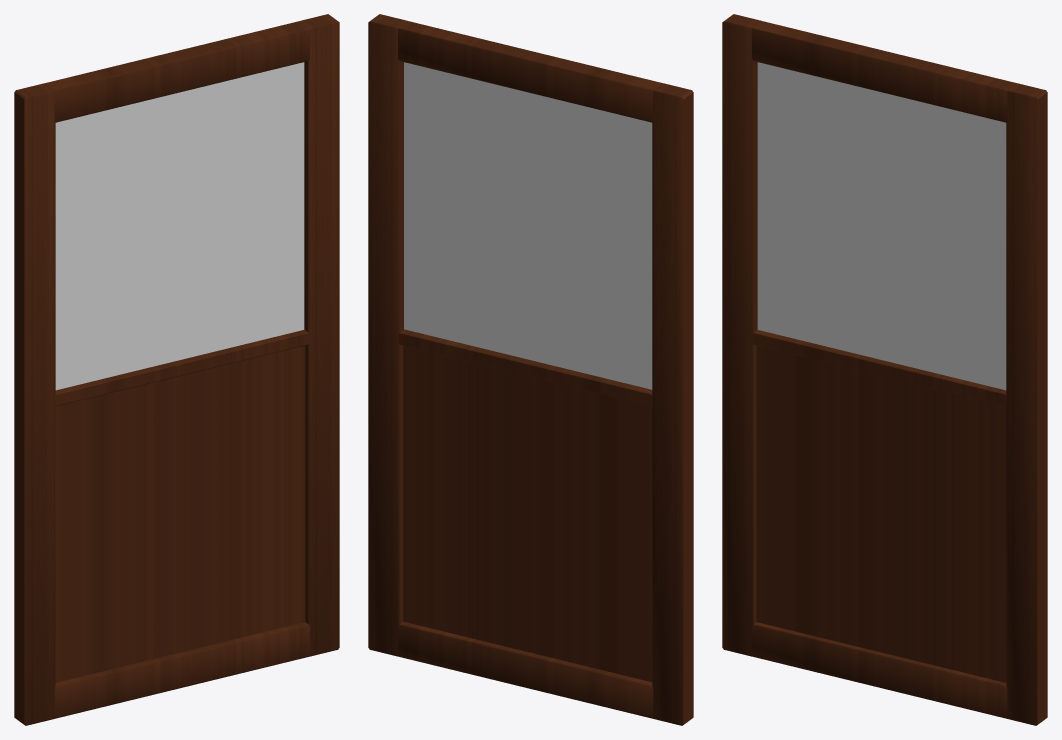
Rendered from Long_Wall_Window.fbx.
3 renders of one model, left to right at view 1: azimuth 30°, elevation 25°; view 2: azimuth 150°, elevation 25°; view 3: azimuth 330°, elevation 25°, orthographic.
Visible parts, largest first — view 1: Long_Wall_Window; view 2: Long_Wall_Window; view 3: Long_Wall_Window.
Part boxes in pixels (box(x1,y1,x2,y2)): Long_Wall_Window: box(14, 14, 339, 725); Long_Wall_Window: box(368, 14, 693, 725); Long_Wall_Window: box(722, 14, 1047, 725).
Bounding box in the file's own units: 212 × 404 × 12.48.
